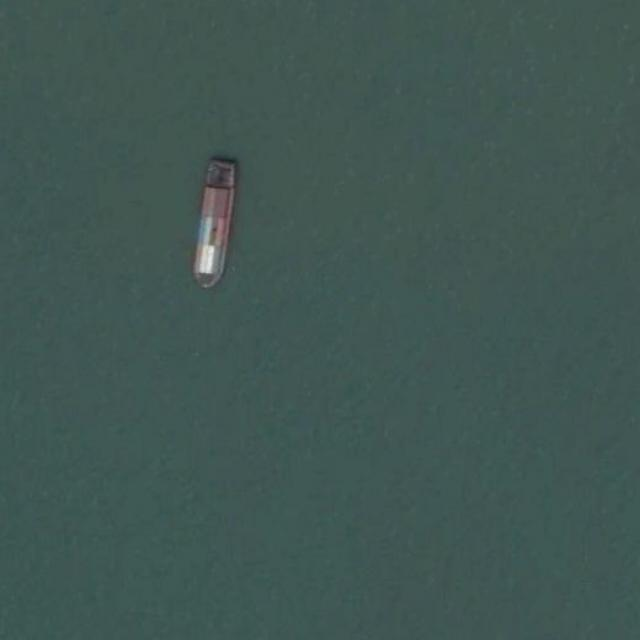boat: (190, 156, 238, 290)
